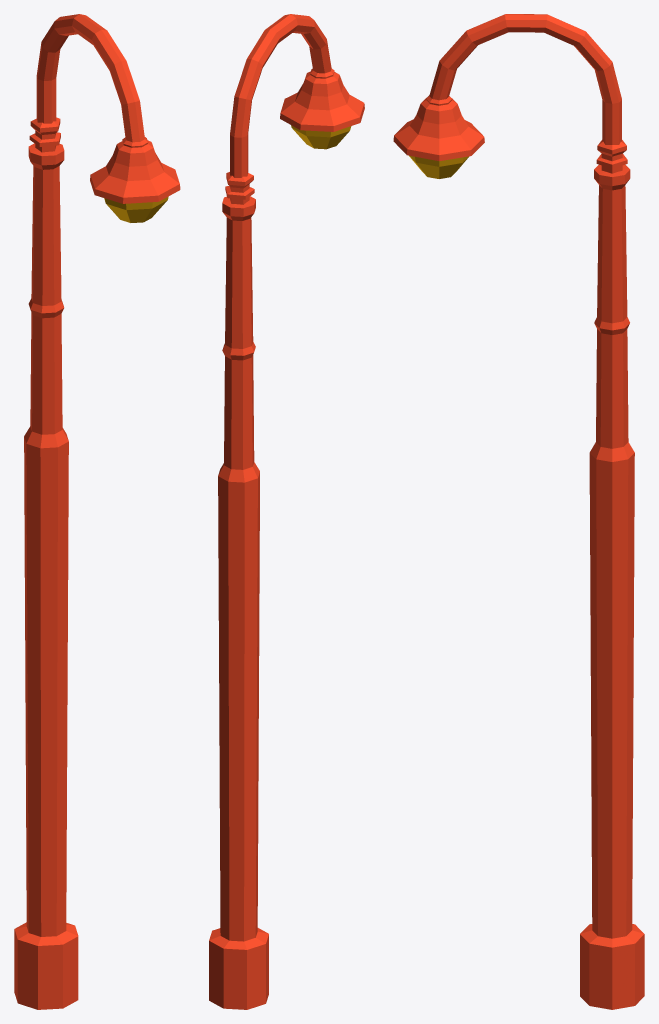
The model's file is SM_Lamp_Sidewalk_G_City.fbx.
The picture shows the model from 3 angles, left to right: view 1: azimuth 30°, elevation 25°; view 2: azimuth 150°, elevation 25°; view 3: azimuth 270°, elevation 25°; orthographic projection. The views are drawn at different scales.
Parts seen in each view (by area): view 1: SM_Lamp_Sidewalk_G_City; view 2: SM_Lamp_Sidewalk_G_City; view 3: SM_Lamp_Sidewalk_G_City.
Part boxes in pixels (x1,y1,x2,y2): SM_Lamp_Sidewalk_G_City: (14, 14, 180, 1009); SM_Lamp_Sidewalk_G_City: (209, 14, 364, 1009); SM_Lamp_Sidewalk_G_City: (393, 14, 644, 1009).
Size of the model in its own units: 0.3225 by 3.82 by 0.8854.
